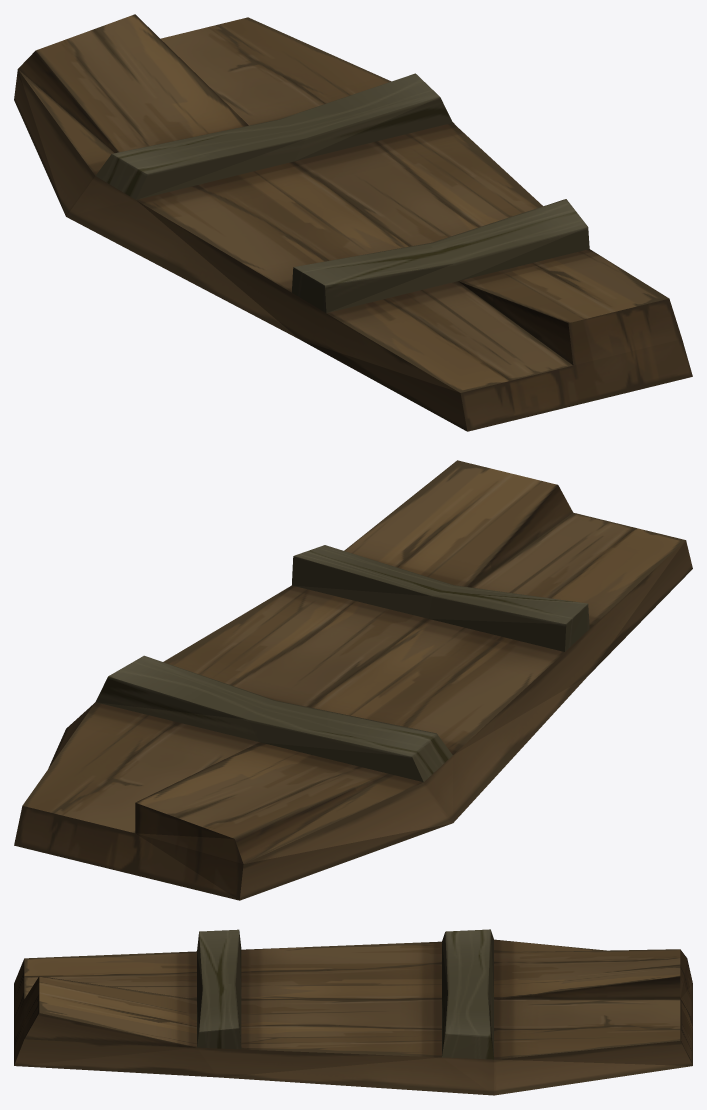
Rendered from Dg_01_WoodCoffin_002.FBX.
3 renders of one model, top to bottom at view 1: azimuth 30°, elevation 25°; view 2: azimuth 150°, elevation 25°; view 3: azimuth 270°, elevation 25°, orthographic. The views are drawn at different scales.
Visible parts, largest first — view 1: Dg_01_WoodCoffin_002; view 2: Dg_01_WoodCoffin_002; view 3: Dg_01_WoodCoffin_002.
Part boxes in pixels (x1=…): Dg_01_WoodCoffin_002: x1=14, y1=14, x2=692, y2=431; Dg_01_WoodCoffin_002: x1=14, y1=460, x2=692, y2=900; Dg_01_WoodCoffin_002: x1=14, y1=929, x2=692, y2=1095.
Bounding box in the file's own units: 1.52 × 0.2534 × 3.08.
